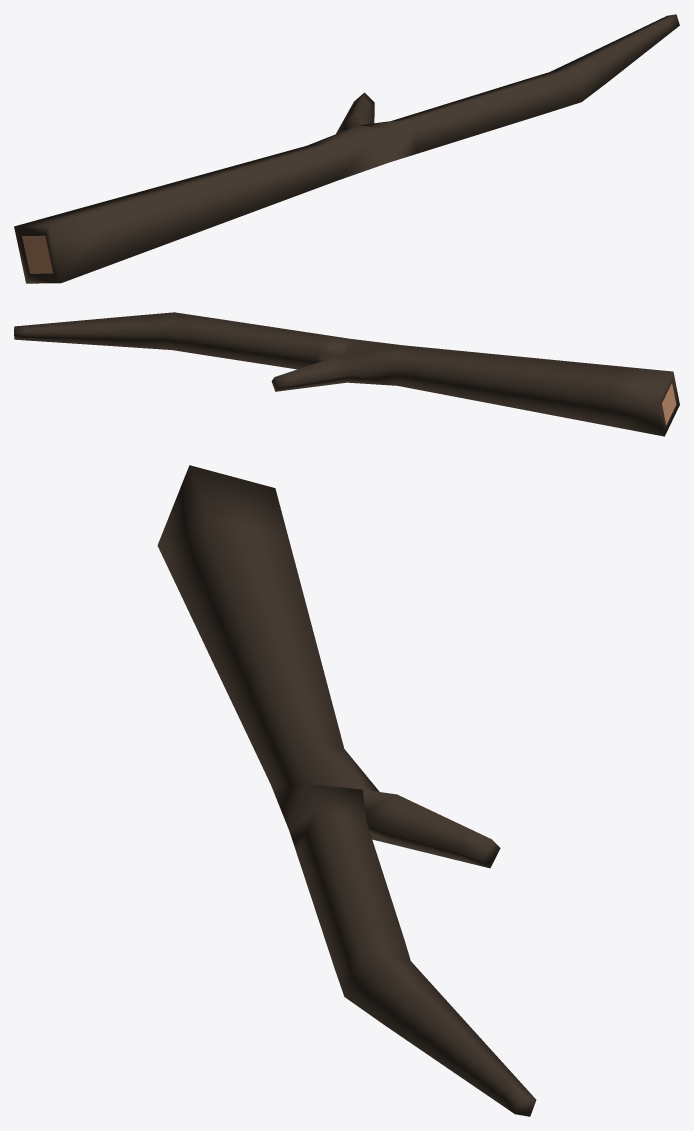
The model's file is Stick.glb.
3 views of the same model, one above another, from view 1: azimuth 30°, elevation 25°; view 2: azimuth 150°, elevation 25°; view 3: azimuth 270°, elevation 25° (orthographic). The views are drawn at different scales.
Visible parts, largest first — view 1: Stick; view 2: Stick; view 3: Stick.
Boxes of the visible parts, x1=… form: Stick: x1=14, y1=14, x2=679, y2=283; Stick: x1=14, y1=312, x2=679, y2=436; Stick: x1=157, y1=465, x2=536, y2=1116.
Bounding box in the file's own units: 0.8864 × 0.0784 × 0.2492.
